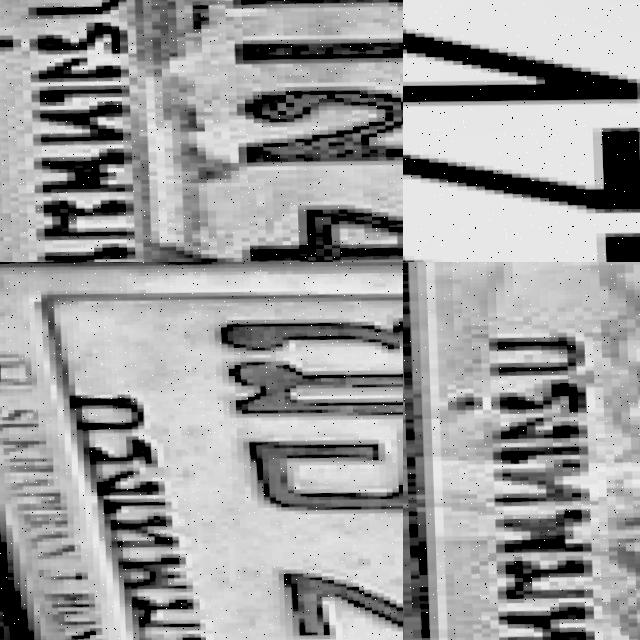license-plate: (0, 262, 403, 640), (0, 0, 403, 262), (403, 262, 640, 640), (403, 0, 640, 262)
